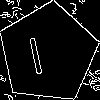I: (23, 28, 46, 75)
